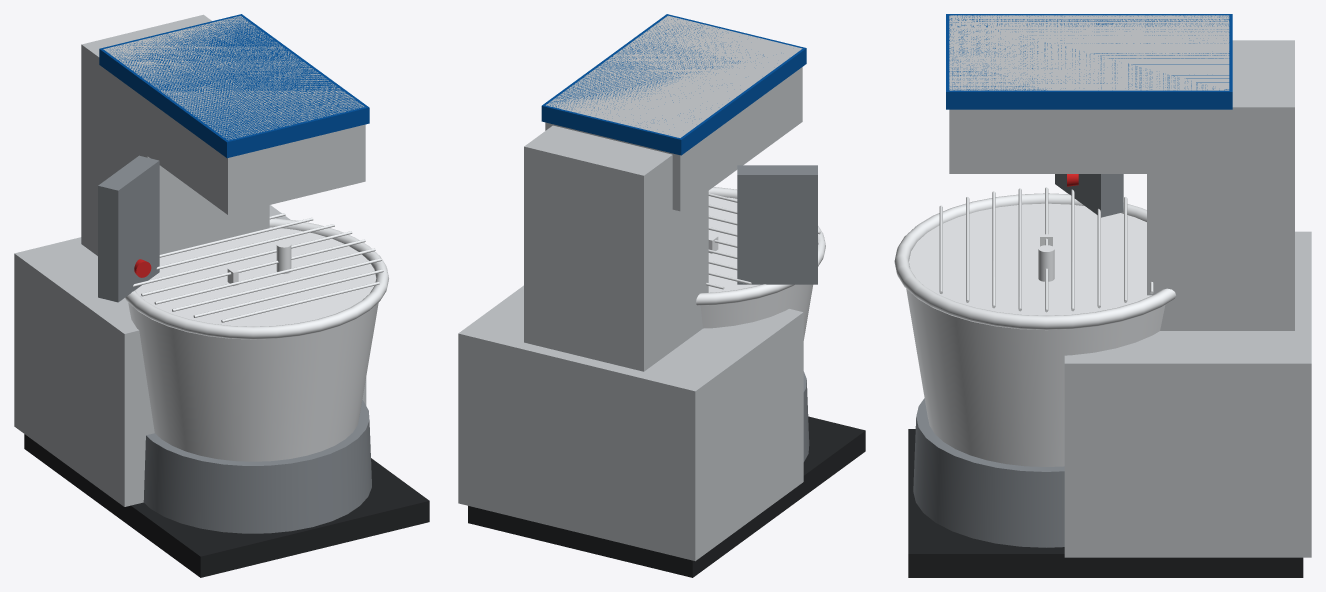
Rendered from mixer.glb.
3 views of the same model, side by side, from view 1: azimuth 30°, elevation 25°; view 2: azimuth 150°, elevation 25°; view 3: azimuth 270°, elevation 25° (orthographic). The views are drawn at different scales.
Visible parts, largest first — view 1: Mixer_Spiral_60kg, anim_bowl; view 2: Mixer_Spiral_60kg, anim_bowl; view 3: Mixer_Spiral_60kg, anim_bowl, anim_hook.
Part boxes in pixels (x1,y1,x2,y2): Mixer_Spiral_60kg: (14, 14, 429, 577); anim_bowl: (125, 218, 388, 461); Mixer_Spiral_60kg: (458, 14, 865, 577); anim_bowl: (696, 187, 825, 340); Mixer_Spiral_60kg: (908, 14, 1311, 577); anim_bowl: (894, 193, 1175, 466); anim_hook: (1038, 245, 1054, 281).
Size of the model in its own units: 1.03 by 1.55 by 1.27.
